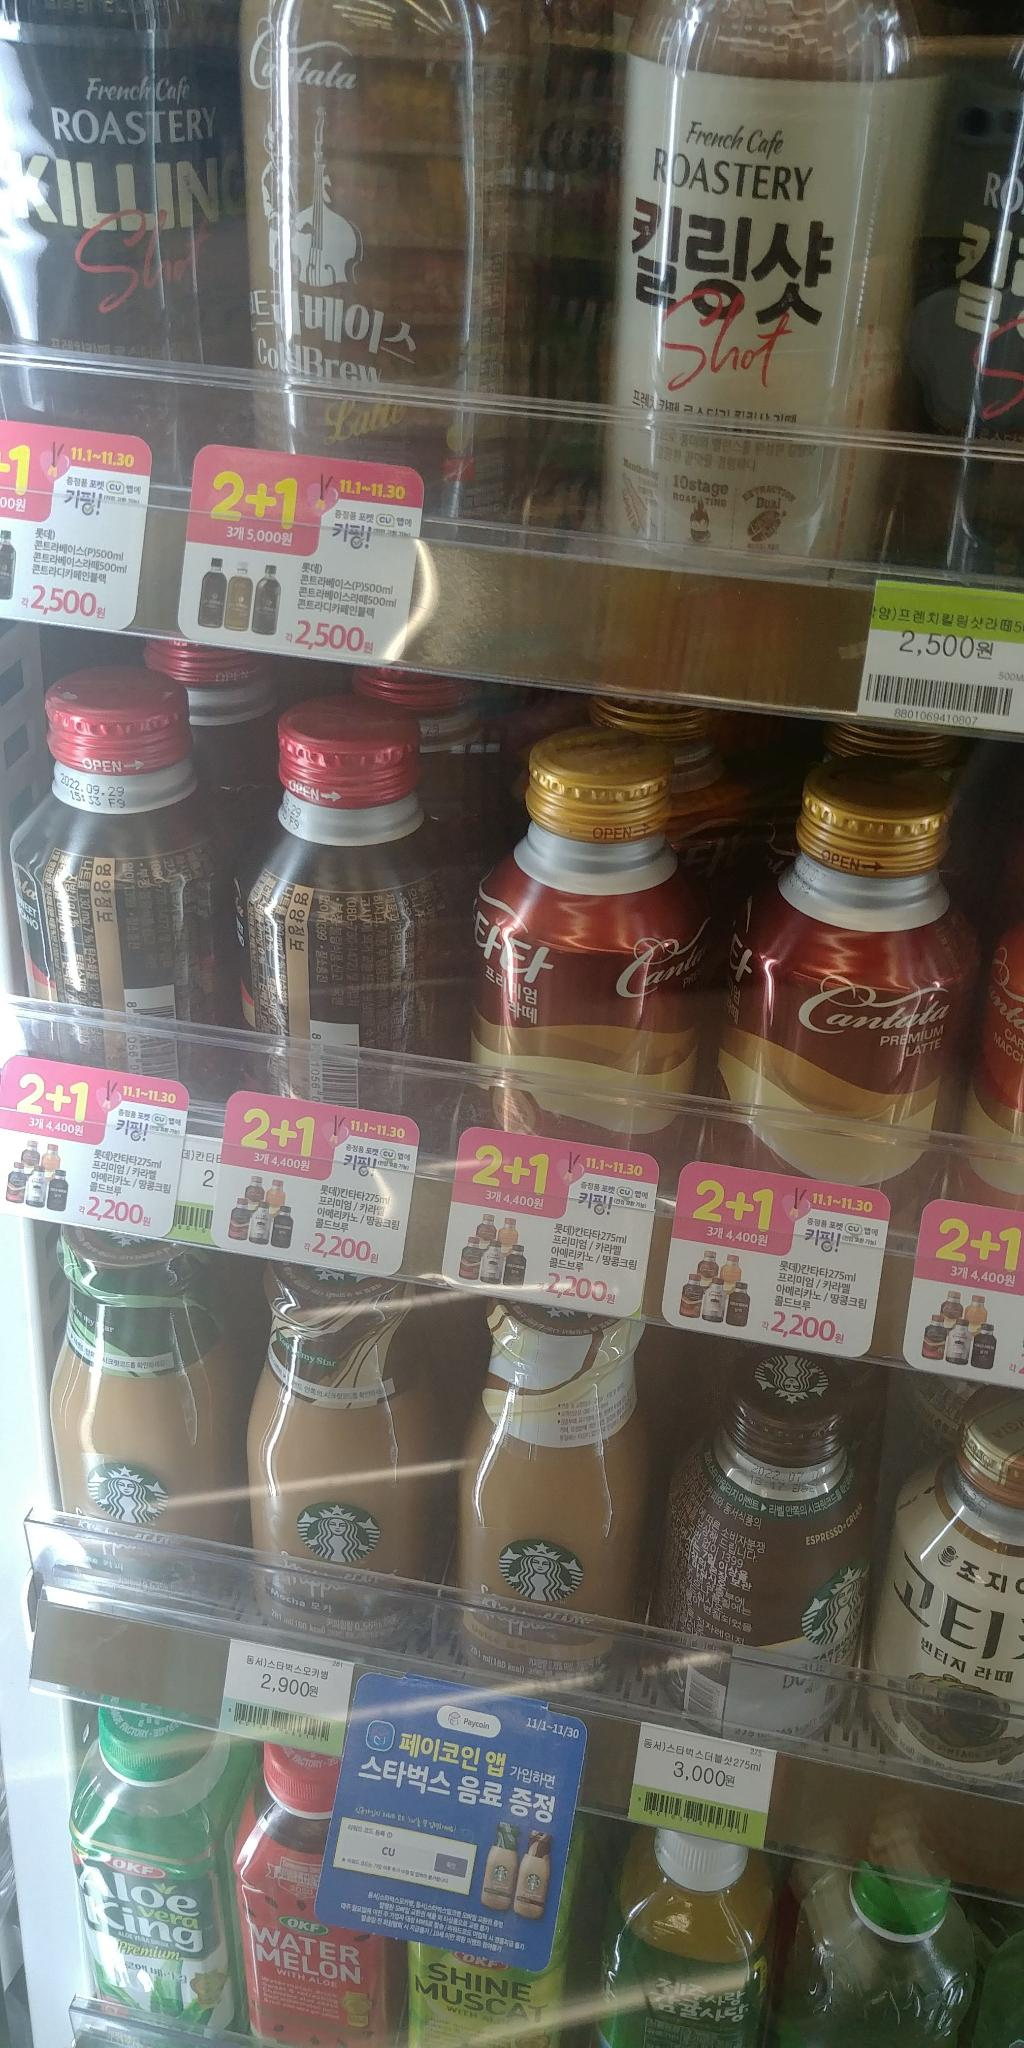TOP_black: (7, 662, 244, 1134), (249, 694, 462, 1170)
